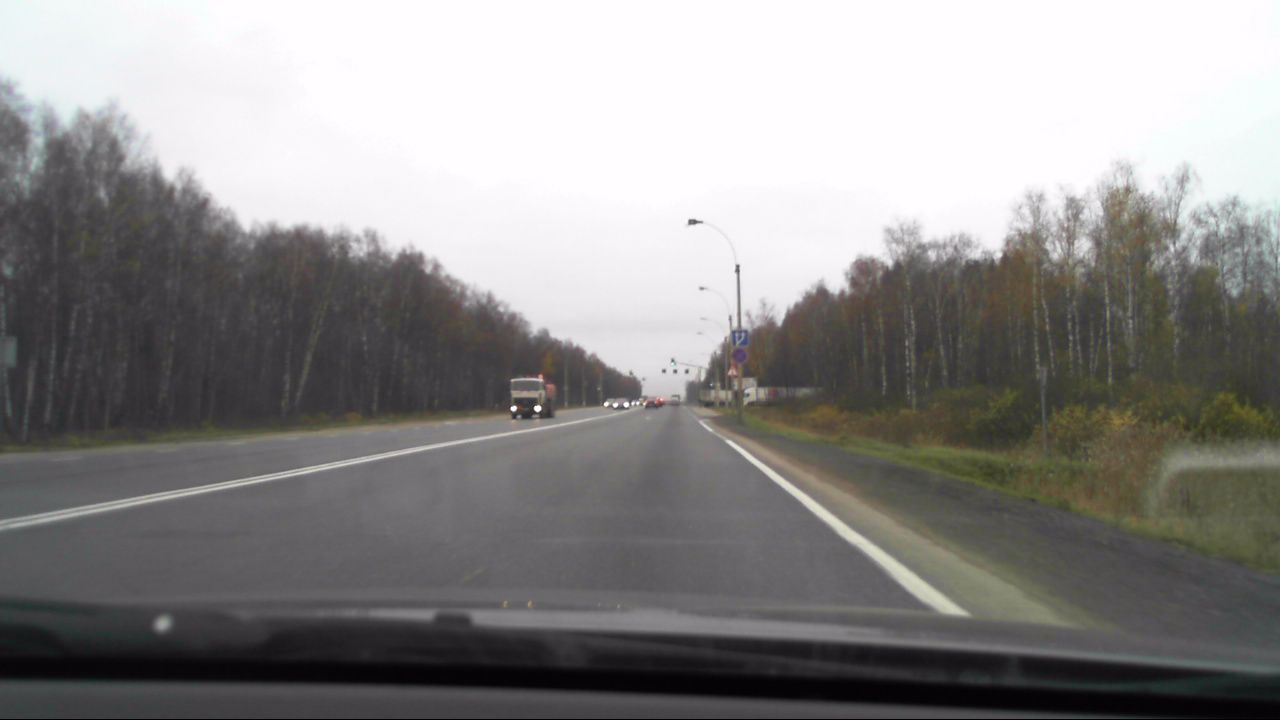No Parking: (732, 347, 748, 363)
